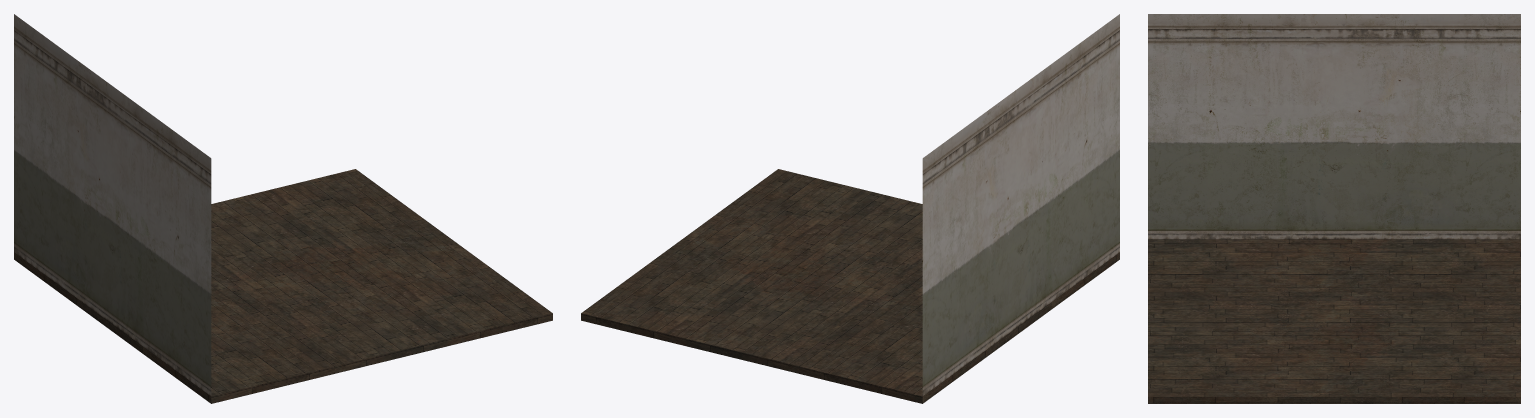
File: hallway_oneside_right_6m.fbx
3 renders of one model, left to right at view 1: azimuth 30°, elevation 25°; view 2: azimuth 150°, elevation 25°; view 3: azimuth 270°, elevation 25°, orthographic. The views are drawn at different scales.
Parts seen in each view (by area): view 1: hallway_oneside_right_6m; view 2: hallway_oneside_right_6m; view 3: hallway_oneside_right_6m.
Boxes of the visible parts, <box> form: hallway_oneside_right_6m: <box>14,14,552,403</box>; hallway_oneside_right_6m: <box>581,14,1119,403</box>; hallway_oneside_right_6m: <box>1148,14,1520,403</box>.
Size of the model in its own units: 600 by 412 by 600.
